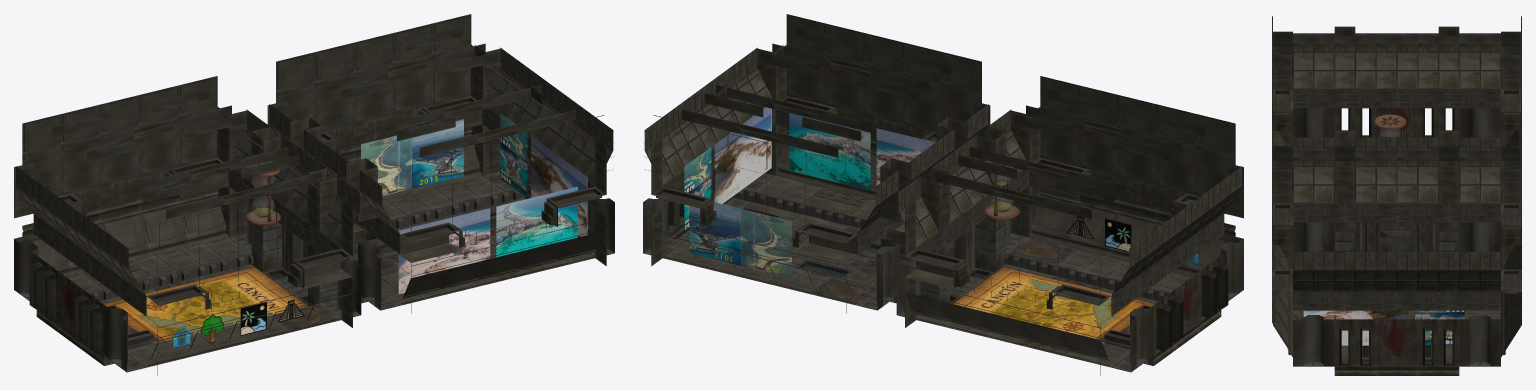
File: Interior.fbx
3 views of the same model, side by side, from view 1: azimuth 30°, elevation 25°; view 2: azimuth 150°, elevation 25°; view 3: azimuth 270°, elevation 25° (orthographic). The views are drawn at different scales.
Parts seen in each view (by area): view 1: Object_4, Object_4.001, Object_6, Object_5, Object_2, Object_6.001, Object_2.001, Object_5.002, 797b0063-c889-4143-b390-127989c3e278, WhatsApp Image 2025-10-16 at 11.06.51 AM, WhatsApp Image 2025-10-16 at 11.06.51 AM (3), WhatsApp Image 2025-10-16 at 11.06.51 AM (4) (+9 smaller); view 2: Object_4, Object_4.001, Object_6, Object_5, Object_6.001, Object_2.001, Object_5.002, Object_2, 797b0063-c889-4143-b390-127989c3e278, WhatsApp Image 2025-10-16 at 11.06.51 AM, Object_3.001, WhatsApp Image 2025-10-16 at 11.06.51 AM (3) (+8 smaller); view 3: Object_6.001, Object_6, Object_4.001, Object_5.002, Object_4, Object_7, Object_7.001, Object_2.001, Object_5.003, WhatsApp Image 2025-10-16 at 11.06.51 AM (2), WhatsApp Image 2025-10-16 at 11.06.51 AM (1), Object_2 (+2 smaller).
Part boxes in pixels (x1,y1,x2,y2): Object_4: (14, 76, 360, 375); Object_4.001: (267, 14, 613, 313); Object_6: (14, 109, 359, 372); Object_5: (53, 89, 361, 314); Object_2: (20, 126, 360, 372); Object_6.001: (269, 47, 614, 254); Object_2.001: (290, 117, 614, 310); Object_5.002: (303, 27, 575, 310); 797b0063-c889-4143-b390-127989c3e278: (103, 267, 307, 343); WhatsApp Image 2025-10-16 at 11.06.51 AM: (361, 119, 463, 195); WhatsApp Image 2025-10-16 at 11.06.51 AM (3): (496, 187, 577, 257); WhatsApp Image 2025-10-16 at 11.06.51 AM (4): (398, 208, 490, 293); Object_4: (897, 76, 1243, 375); Object_4.001: (644, 14, 990, 313); Object_6: (898, 109, 1243, 372); Object_5: (896, 89, 1204, 314); Object_6.001: (643, 47, 988, 254); Object_2.001: (643, 117, 967, 310); Object_5.002: (682, 27, 951, 310); Object_2: (897, 126, 1237, 372); 797b0063-c889-4143-b390-127989c3e278: (953, 267, 1154, 343); WhatsApp Image 2025-10-16 at 11.06.51 AM: (689, 201, 791, 277); Object_3.001: (745, 109, 876, 305); WhatsApp Image 2025-10-16 at 11.06.51 AM (3): (789, 113, 870, 190); Object_6.001: (1293, 147, 1500, 375); Object_6: (1293, 33, 1500, 147); Object_4.001: (1272, 130, 1521, 357); Object_5.002: (1293, 222, 1500, 251); Object_4: (1272, 16, 1521, 147); Object_7: (1272, 26, 1521, 75); Object_7.001: (1272, 146, 1521, 189); Object_2.001: (1293, 149, 1500, 366); Object_5.003: (1376, 222, 1417, 251); WhatsApp Image 2025-10-16 at 11.06.51 AM (2): (1303, 310, 1408, 345); WhatsApp Image 2025-10-16 at 11.06.51 AM (1): (1415, 310, 1464, 345); Object_2: (1334, 130, 1459, 147).
Size of the model in its own units: 1938 by 611 by 891.
19 materials, 18 textured.
